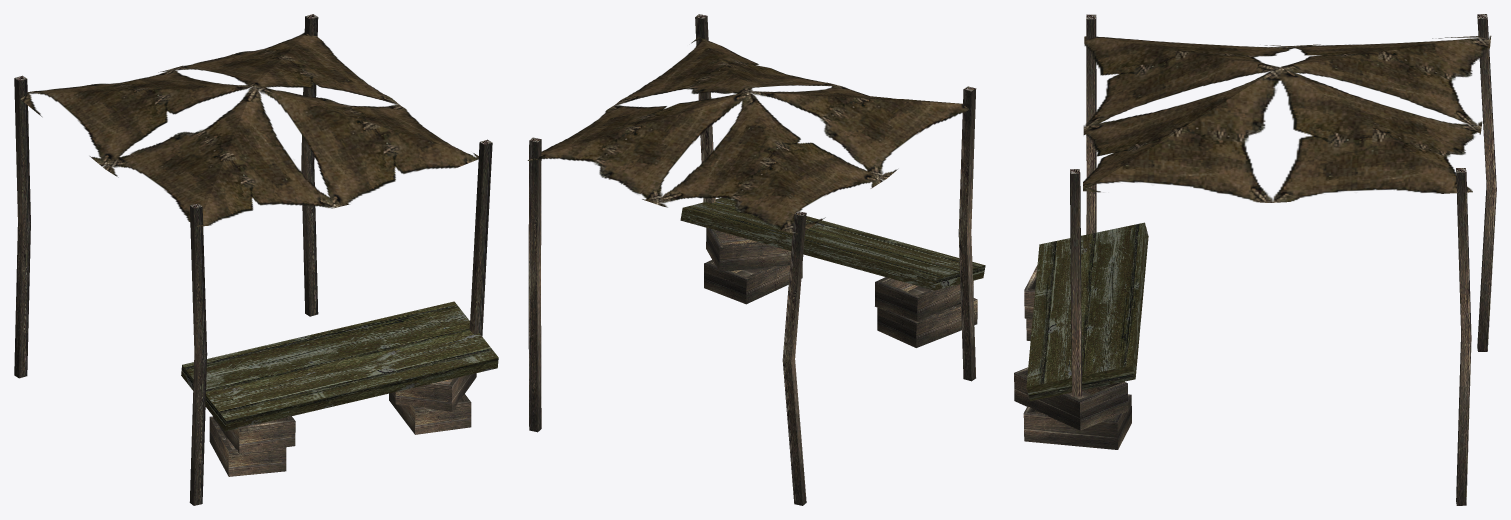
Rendered from targowisko2.glb.
3 renders of one model, left to right at view 1: azimuth 30°, elevation 25°; view 2: azimuth 150°, elevation 25°; view 3: azimuth 270°, elevation 25°, orthographic. The views are drawn at different scales.
Parts seen in each view (by area): view 1: zengin01; view 2: zengin01; view 3: zengin01.
Part boxes in pixels (box(x1,y1,x2,y2)): zengin01: box(14, 14, 498, 505); zengin01: box(527, 14, 985, 505); zengin01: box(1014, 14, 1496, 505).
Size of the model in its own units: 3.35 by 3.51 by 4.28.
4 materials, 4 textured.
